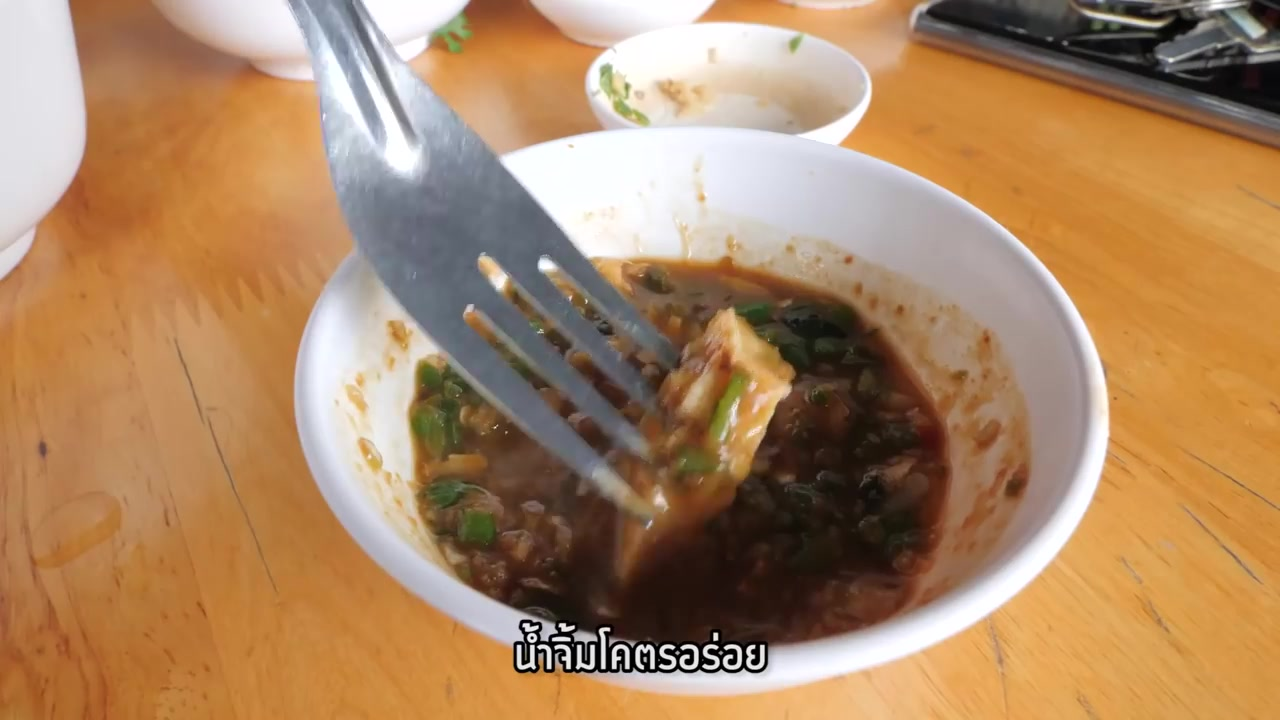text-label: (510, 614, 776, 677)
